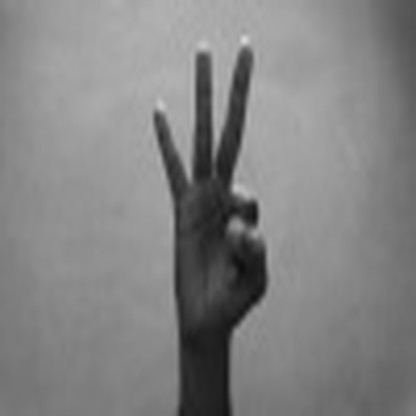f: (142, 33, 282, 341)
